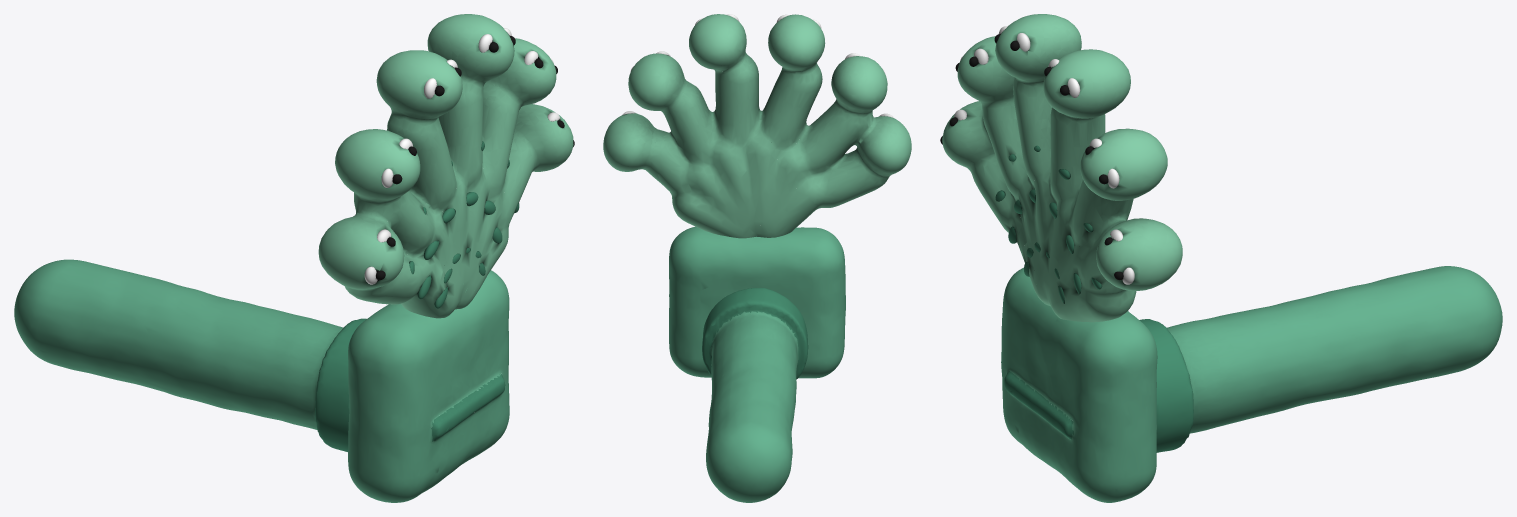
The model's file is vi-ses.glb.
3 views of the same model, side by side, from view 1: azimuth 30°, elevation 25°; view 2: azimuth 150°, elevation 25°; view 3: azimuth 270°, elevation 25° (orthographic). The views are drawn at different scales.
Visible parts, largest first — view 1: dedos__r0, braco__r0, mao__r0; view 2: dedos__r0, braco__r0, mao__r0; view 3: dedos__r0, braco__r0, mao__r0.
Part boxes in pixels (box(x1,y1,x2,y2)): dedos__r0: box(318, 14, 573, 318); braco__r0: box(14, 259, 366, 451); mao__r0: box(348, 270, 509, 502); dedos__r0: box(603, 14, 911, 238); braco__r0: box(702, 288, 808, 502); mao__r0: box(669, 226, 845, 378); dedos__r0: box(942, 14, 1182, 322); braco__r0: box(1139, 266, 1502, 452); mao__r0: box(1001, 267, 1157, 502).
Size of the model in its own units: 1.13 by 1.22 by 1.41.
